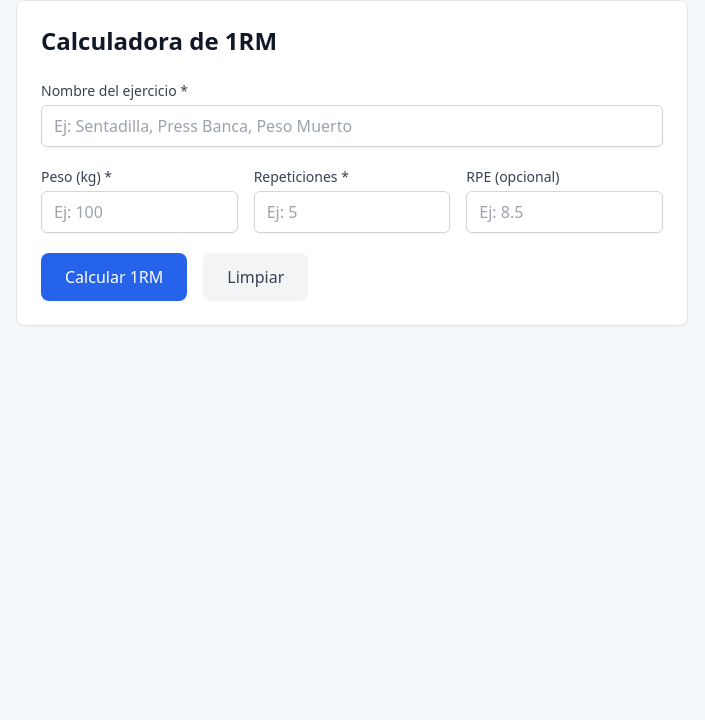
it: OneRMCalculator › clears form when clicking Limpiar
Type "Sentadilla" into the field labelled "Nombre del ejercicio *" at (352, 126), box [41,105,663,147]
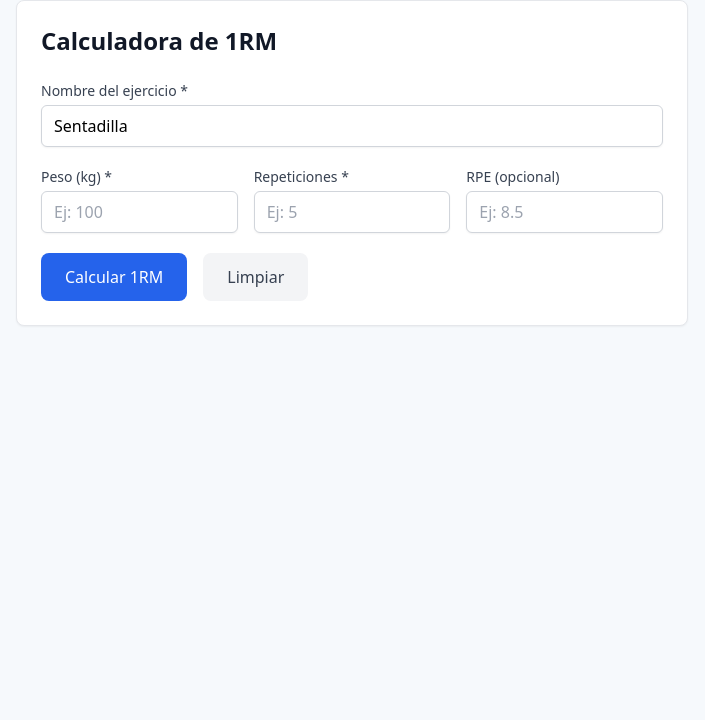
Type "100" into the number field labelled "Peso (kg) *" at (139, 212), box [41,191,238,233]
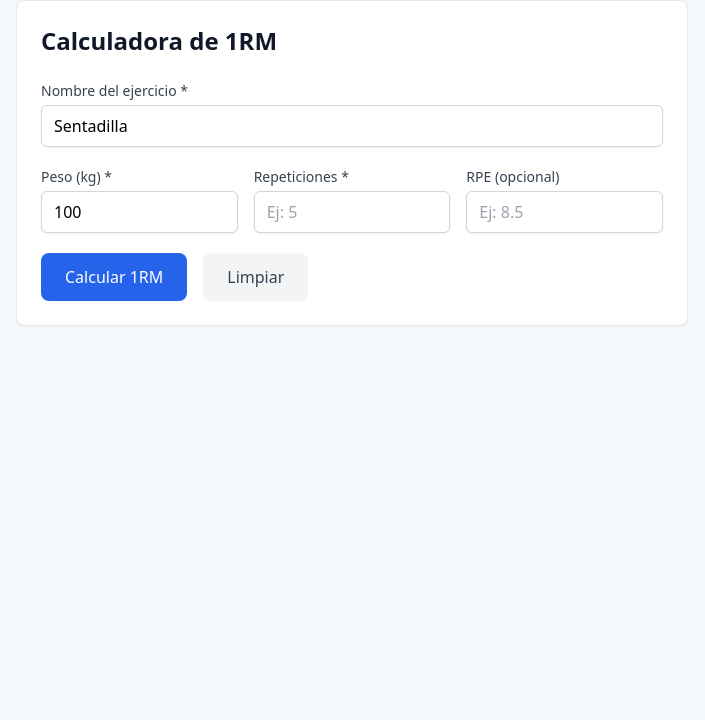
Type "5" into the number field labelled "Repeticiones *" at (352, 212), box [254,191,450,233]
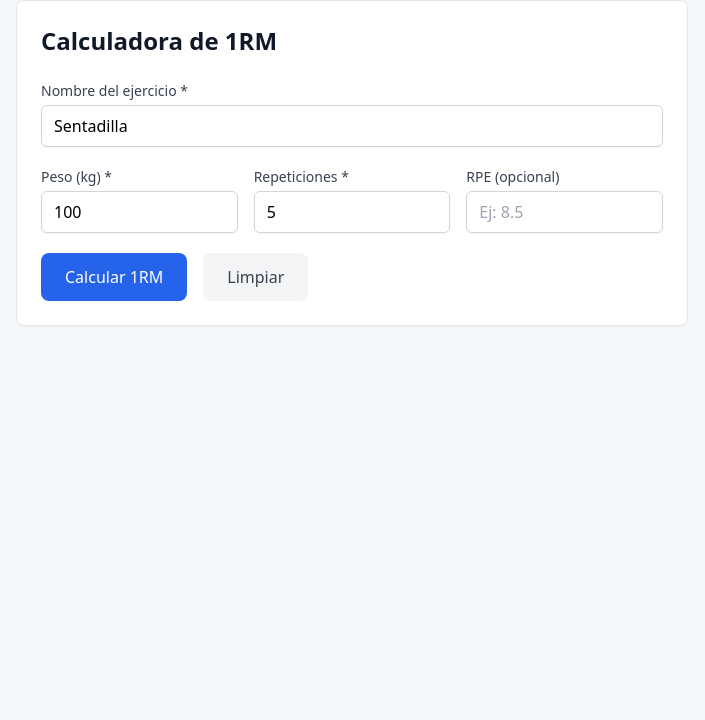
Submit the form with test id "onerm-form", box [41,81,663,301]
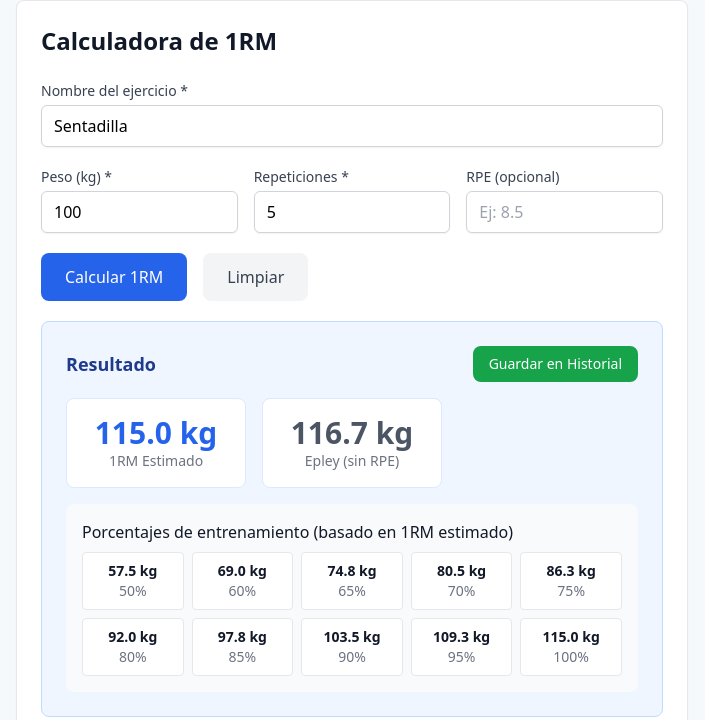
Expected: the text "115.0 kg" next to "116.7" is shown, [95,412,217,453]
Click the button "Limpiar" at (256, 277), box [203,253,308,301]
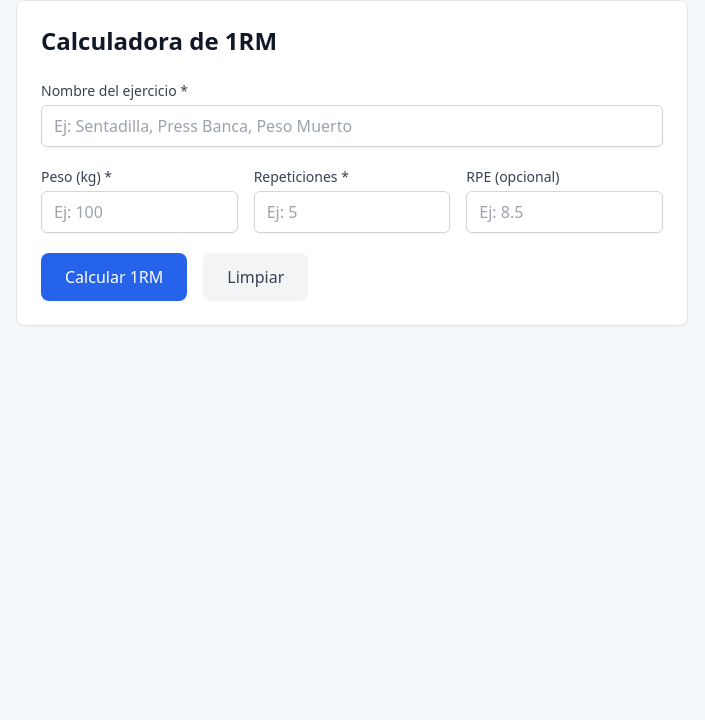
Expected: the field labelled "Nombre del ejercicio *" is empty, [41,105,663,147]
Expected: the number field labelled "Peso (kg) *" is not empty, [41,191,238,233]
Expected: the number field labelled "Repeticiones *" is not empty, [254,191,450,233]
